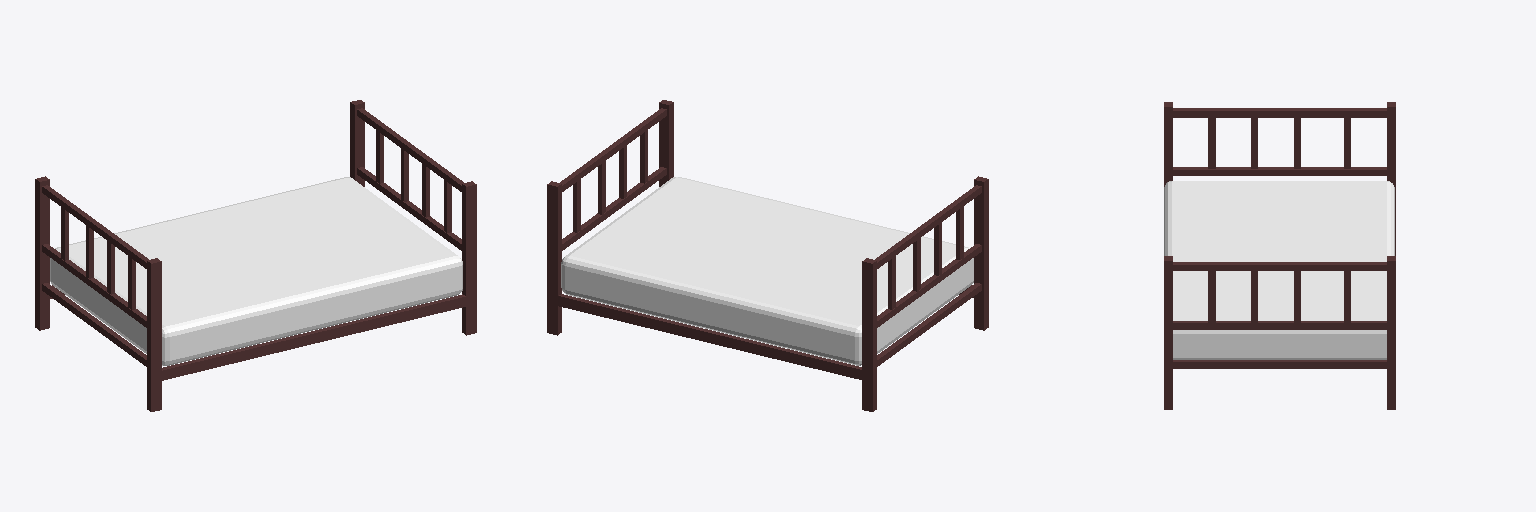
File: bed1.obj
3 renders of one model, left to right at view 1: azimuth 30°, elevation 25°; view 2: azimuth 150°, elevation 25°; view 3: azimuth 270°, elevation 25°, orthographic.
Visible parts, largest first — view 1: bed1; view 2: bed1; view 3: bed1.
Part boxes in pixels (x1,y1,x2,y2): bed1: (35, 100, 476, 411); bed1: (547, 100, 988, 411); bed1: (1164, 102, 1395, 409).
Size of the model in its own units: 2.92 by 1.27 by 1.8.